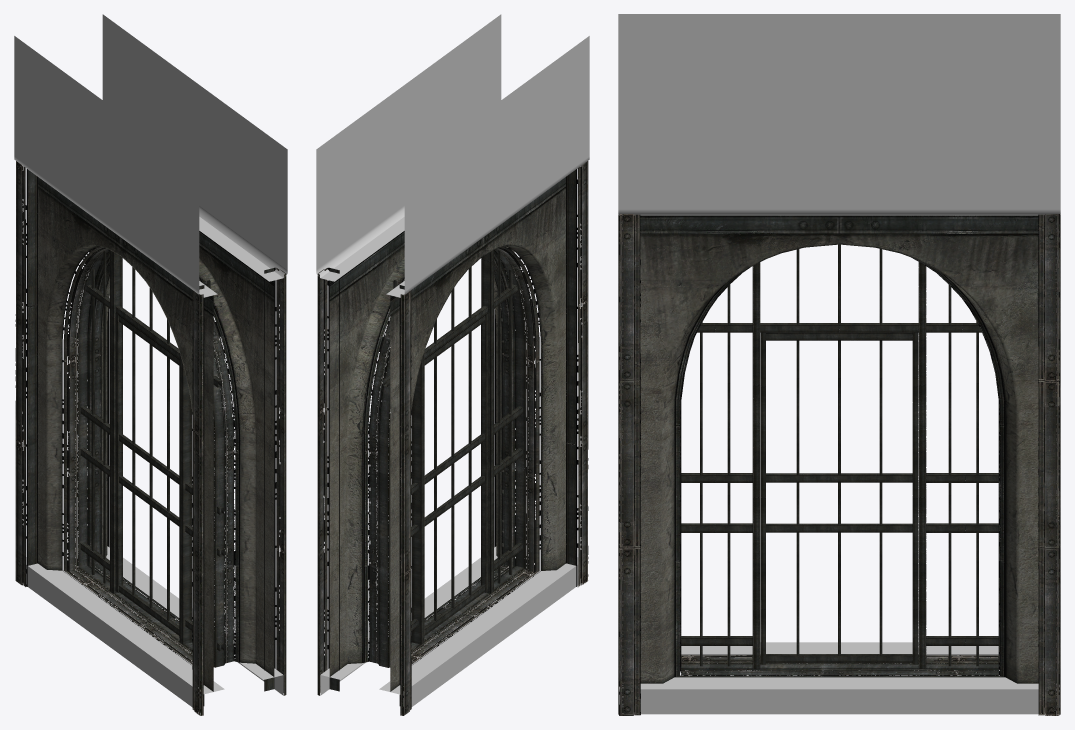
The model's file is tesla_modules1_door_gate.dae.
The picture shows the model from 3 angles, left to right: view 1: azimuth 30°, elevation 25°; view 2: azimuth 150°, elevation 25°; view 3: azimuth 270°, elevation 25°; orthographic projection. The views are drawn at different scales.
Visible parts, largest first — view 1: door_gate_01_metal, door_gate_01_stone, door_gate_01_arch, door_gate_01_gate; view 2: door_gate_01_metal, door_gate_01_stone, door_gate_01_arch, door_gate_01_gate; view 3: door_gate_01_stone, door_gate_01_metal, door_gate_01_arch, door_gate_01_gate.
Part boxes in pixels (x1,y1,x2,y2): door_gate_01_metal: (15,161,286,715); door_gate_01_stone: (14,14,287,712); door_gate_01_arch: (29,177,274,691); door_gate_01_gate: (115,313,179,637); door_gate_01_metal: (317,161,588,715); door_gate_01_stone: (316,14,589,706); door_gate_01_arch: (329,177,574,691); door_gate_01_gate: (424,313,488,637); door_gate_01_stone: (618,14,1060,714); door_gate_01_metal: (618,214,1060,715); door_gate_01_arch: (619,215,1059,683); door_gate_01_gate: (760,332,918,664).
Bounding box in the file's own units: 1101 × 6499 × 4003.
